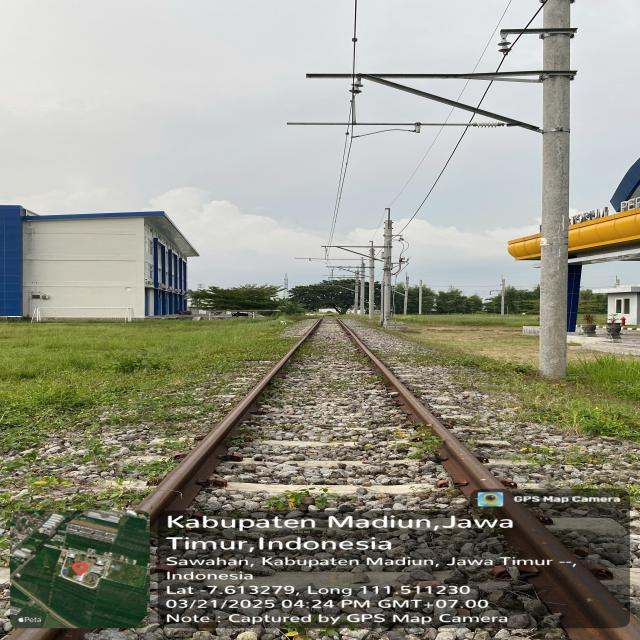rail-detection: (336, 320, 640, 640), (140, 321, 321, 531)
